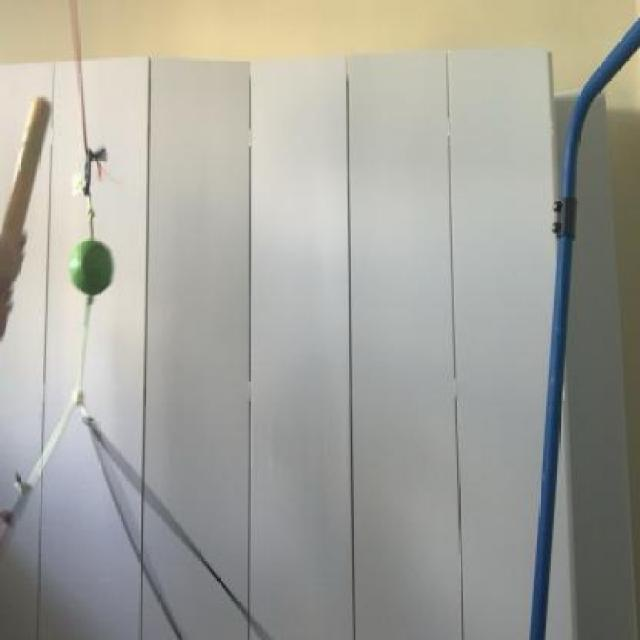baseball: (61, 237, 128, 320)
